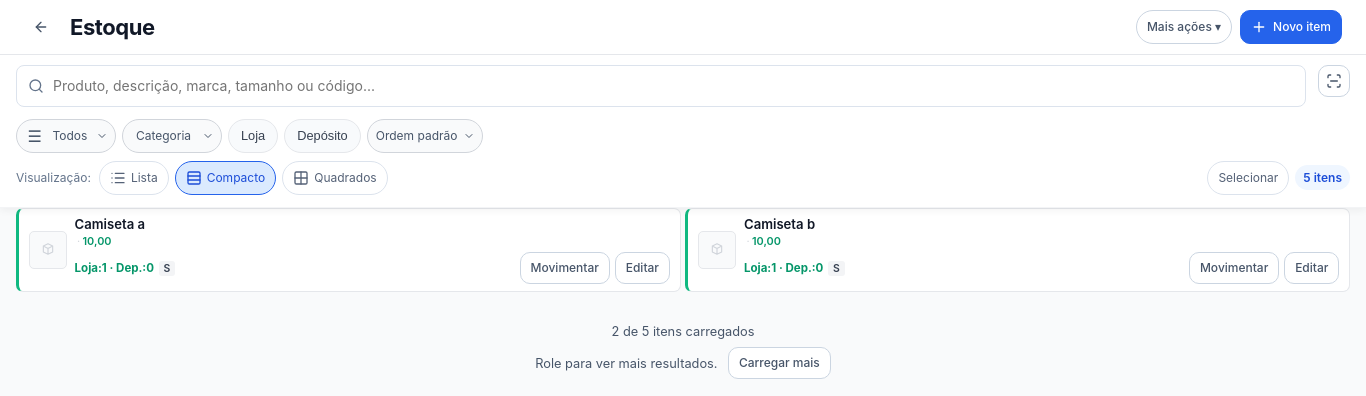
Test: Inventory search counts and mobile progress › shows searching during debounce, ignores old replies and translates the completed total
The width and height of the screenshot is (1366, 396).
Type "calçados" into the search field with class "search-input" at (661, 86), box [16,65,1306,107]
Wait 300 ms
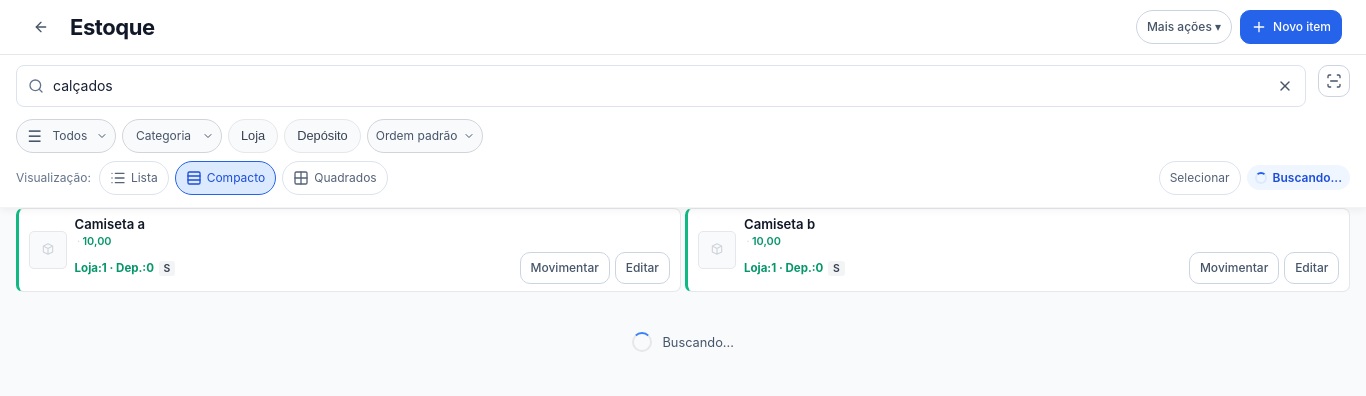
Expected: the message with class "search-result-count" reads "Buscando...", [1272,170,1342,185]
Replace the text in the search field with class "search-input" with "camiseta S" at (661, 86), box [16,65,1306,107]
Wait 300 ms
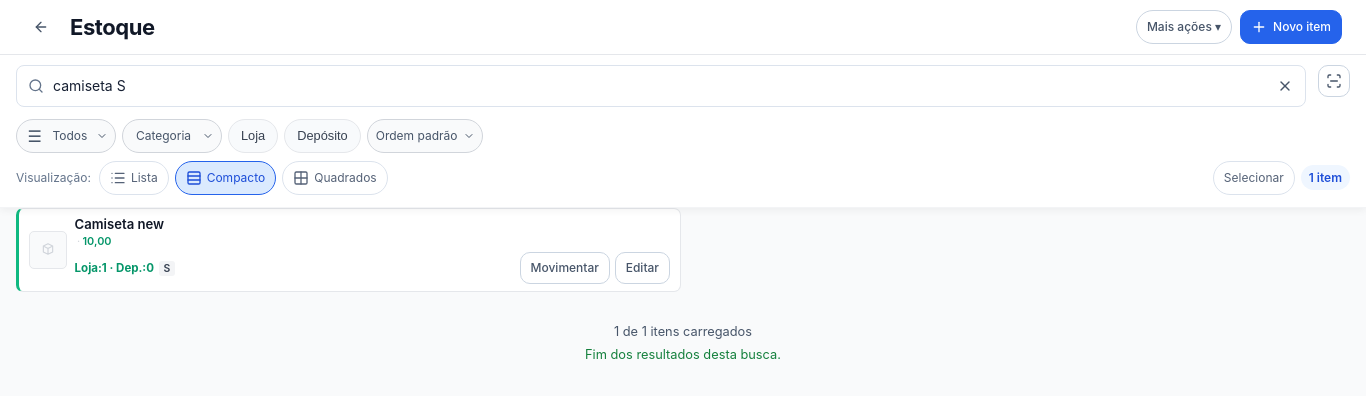
Expected: the message with class "search-result-count" reads "1 item", [1309,170,1342,185]
